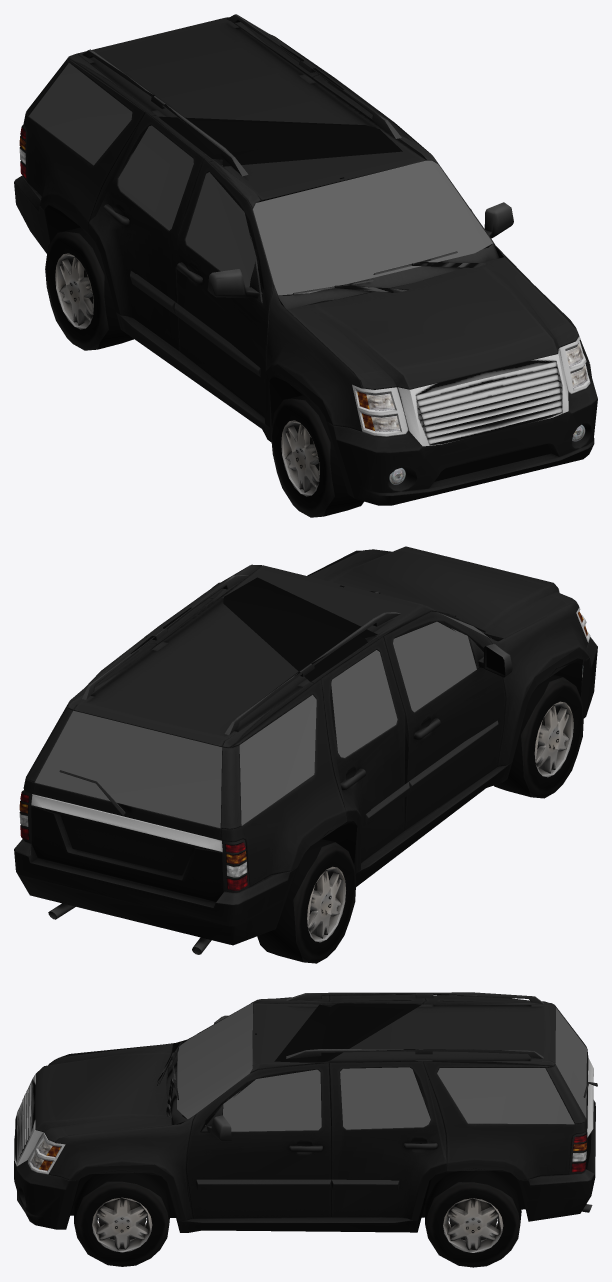
File: SUV.glb
3 views of the same model, one above another, from view 1: azimuth 30°, elevation 25°; view 2: azimuth 150°, elevation 25°; view 3: azimuth 270°, elevation 25° (orthographic). The views are drawn at different scales.
Parts seen in each view (by area): view 1: SUV Body, Wheel_E002.001, Wheel_E003.001; view 2: SUV Body, Wheel_E003.001, Wheel_E002.001; view 3: SUV Body, Wheel_E001.001, Wheel_E.001.
Part boxes in pixels (bbox=[...]): SUV Body: bbox=[14, 14, 597, 505]; Wheel_E002.001: bbox=[271, 395, 363, 517]; Wheel_E003.001: bbox=[45, 227, 133, 350]; SUV Body: bbox=[14, 546, 597, 954]; Wheel_E003.001: bbox=[257, 839, 356, 963]; Wheel_E002.001: bbox=[494, 675, 583, 798]; SUV Body: bbox=[14, 992, 597, 1232]; Wheel_E001.001: bbox=[425, 1170, 521, 1267]; Wheel_E.001: bbox=[74, 1173, 170, 1266].
Bounding box in the file's own units: 2.33 × 1.94 × 5.11.
5 materials, 4 textured.
